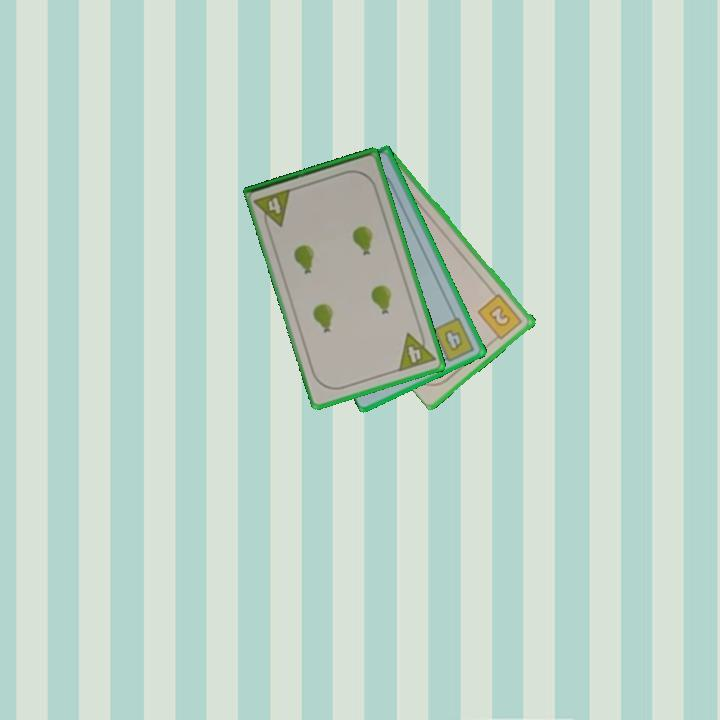2b: (474, 290, 525, 345)
4b: (430, 314, 477, 366)
4p: (251, 185, 295, 233), (395, 325, 438, 374)
